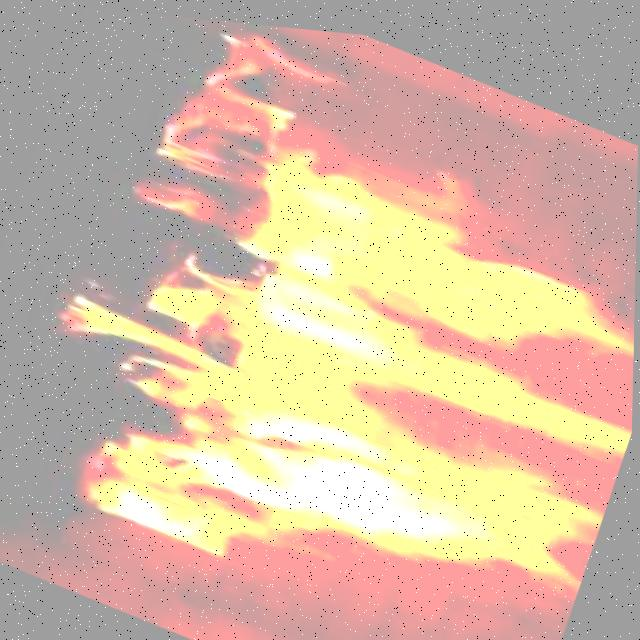Fire: (3, 1, 640, 640)
